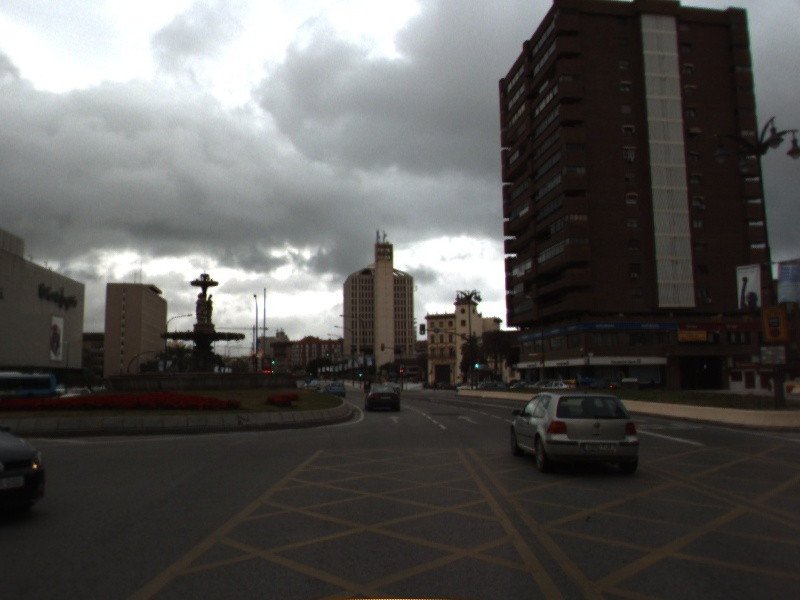STRAIGHT: (455, 413, 482, 427), (385, 413, 404, 425)
